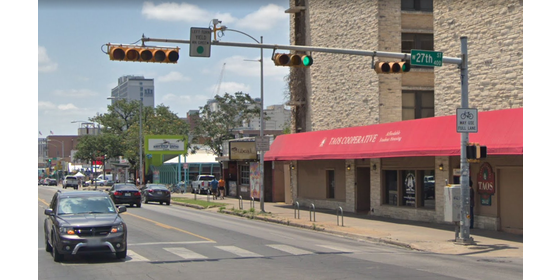bike symbol may use full lane sign: (454, 104, 479, 137)
left turn yield on green sign: (188, 24, 213, 59)
street name sign: (410, 48, 447, 69)
